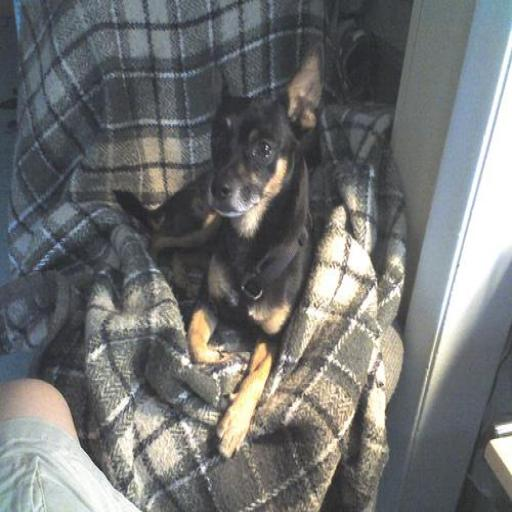dog_face: (202, 91, 323, 226)
